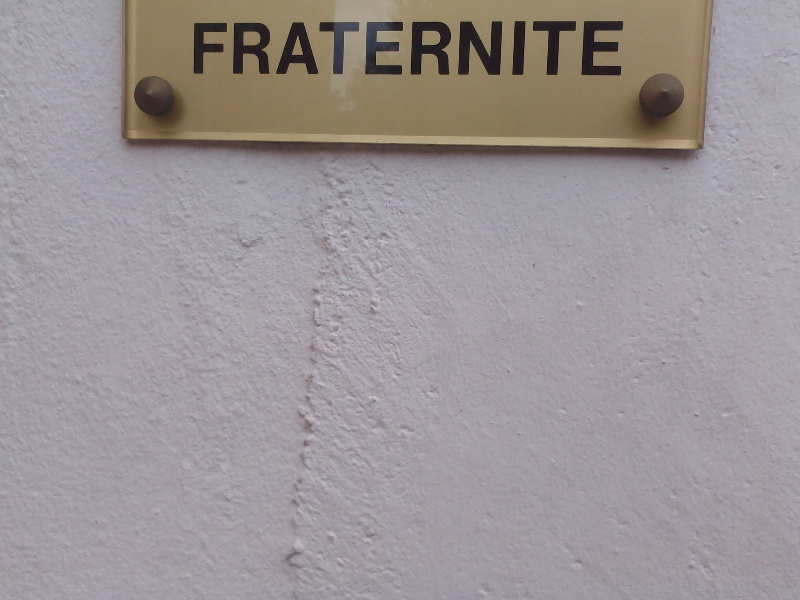text: (609, 20, 625, 77), (193, 20, 208, 77), (209, 20, 224, 77), (225, 20, 240, 77), (241, 20, 256, 77), (257, 20, 272, 77), (273, 20, 288, 77), (289, 20, 304, 77), (305, 20, 320, 77), (321, 20, 336, 77), (337, 20, 352, 77), (353, 20, 368, 77), (369, 20, 384, 77), (385, 20, 400, 77), (401, 20, 416, 77), (417, 20, 432, 77), (433, 20, 448, 77), (449, 20, 464, 77), (465, 20, 480, 77), (481, 20, 496, 77), (497, 20, 512, 77), (513, 20, 528, 77), (529, 20, 544, 77), (545, 20, 560, 77), (561, 20, 576, 77), (577, 20, 592, 77), (593, 20, 608, 77)
